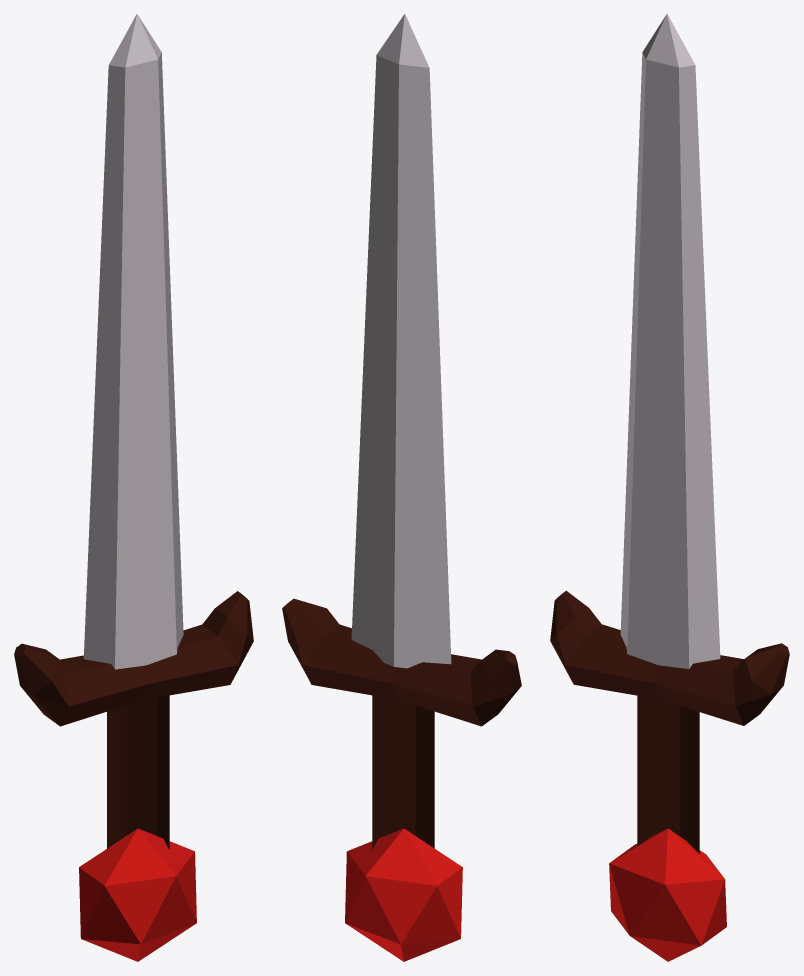
Rendered from Sword.obj.
3 views of the same model, side by side, from view 1: azimuth 30°, elevation 25°; view 2: azimuth 150°, elevation 25°; view 3: azimuth 330°, elevation 25° (orthographic).
Visible parts, largest first — view 1: BUTT_Icosphere.001, BUTT; view 2: BUTT_Icosphere.001, BUTT; view 3: BUTT_Icosphere.001, BUTT.
Part boxes in pixels (box(x1,y1,x2,y2)): BUTT_Icosphere.001: box(79, 14, 196, 961); BUTT: box(14, 591, 253, 849); BUTT_Icosphere.001: box(345, 14, 462, 961); BUTT: box(282, 598, 521, 849); BUTT_Icosphere.001: box(609, 14, 726, 961); BUTT: box(550, 590, 789, 853).
Size of the model in its own units: 0.4076 by 1.6 by 0.1263.
